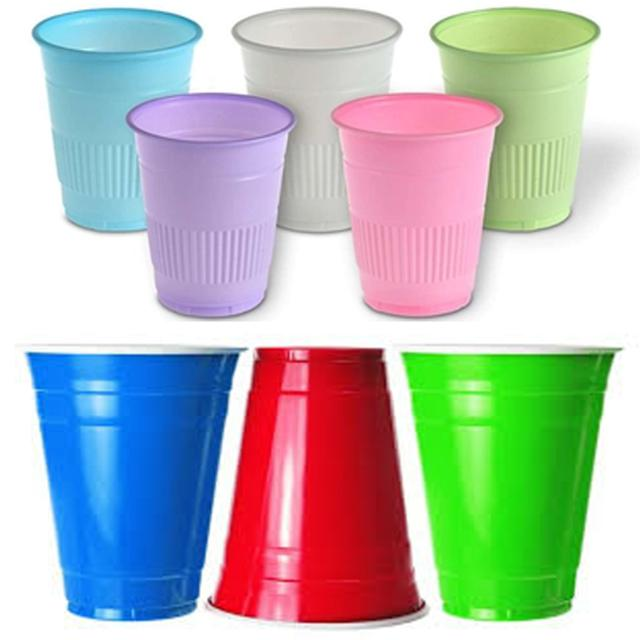plastik: (19, 344, 240, 620), (211, 348, 424, 622), (404, 350, 615, 620), (232, 7, 402, 232), (32, 8, 202, 230), (332, 94, 502, 316), (430, 8, 600, 230), (127, 93, 295, 316)
